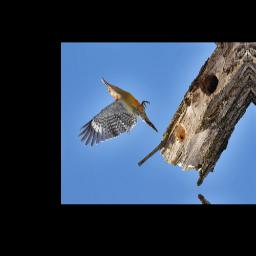Woodpecker: (72, 71, 160, 150)
